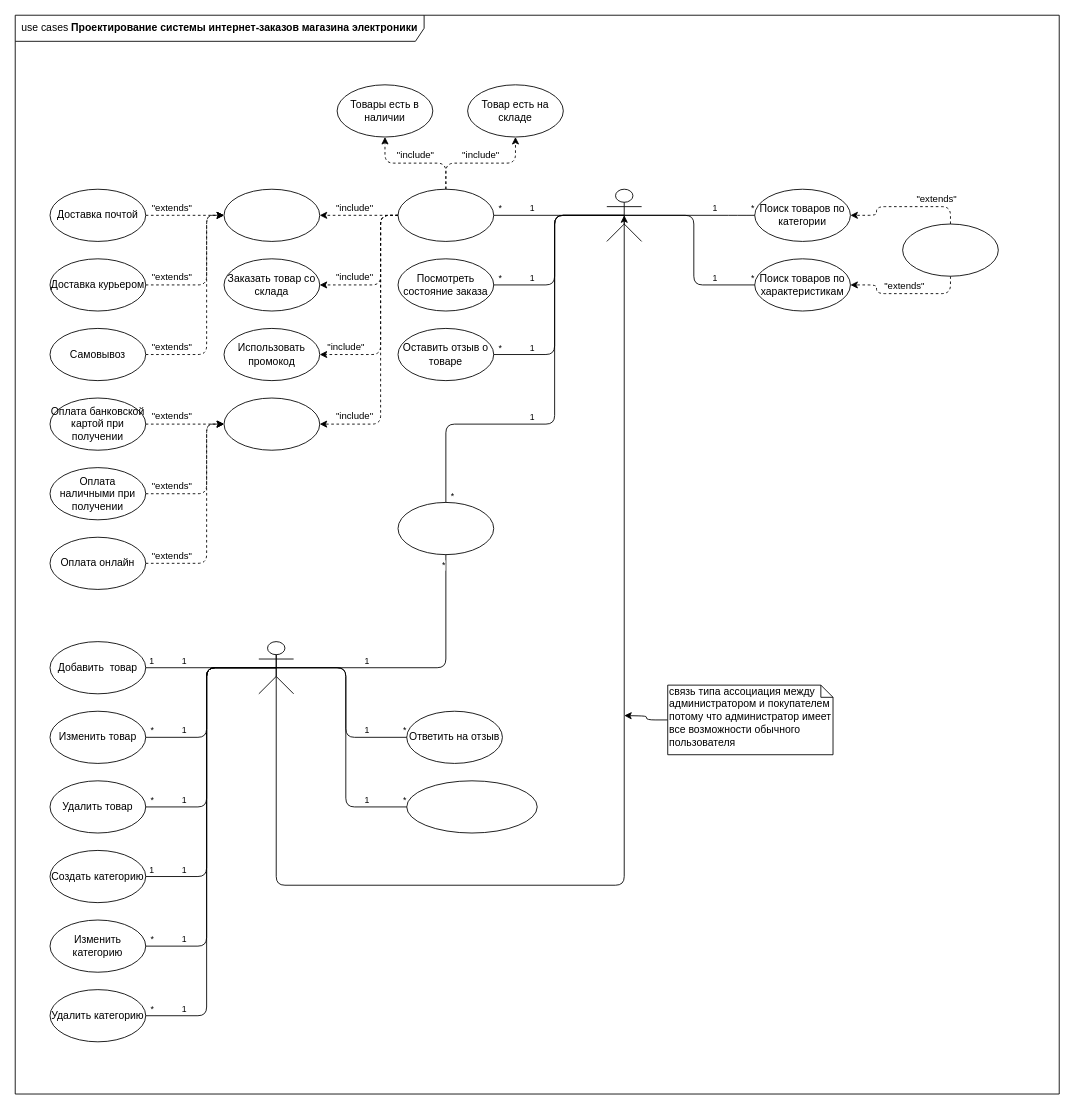
This 1074x1109 diagram has some shape labels left out. The shapes that lost their labels are listed below. From the top down, each one's box as (x1, y1, x2, y2) in pixels, then its label:
(223, 188, 320, 241): Выбрать способ доставки
(397, 188, 494, 241): Сделать заказ
(606, 188, 642, 241): Покупатель
(902, 223, 998, 276): Поиск товаров по харктеристикам
(223, 397, 320, 450): Выбрать способ оплаты
(397, 502, 494, 555): Вернуть товар
(258, 641, 294, 694): Администратор
(406, 780, 537, 833): Рассмотреть заказ новых товаров на склад
